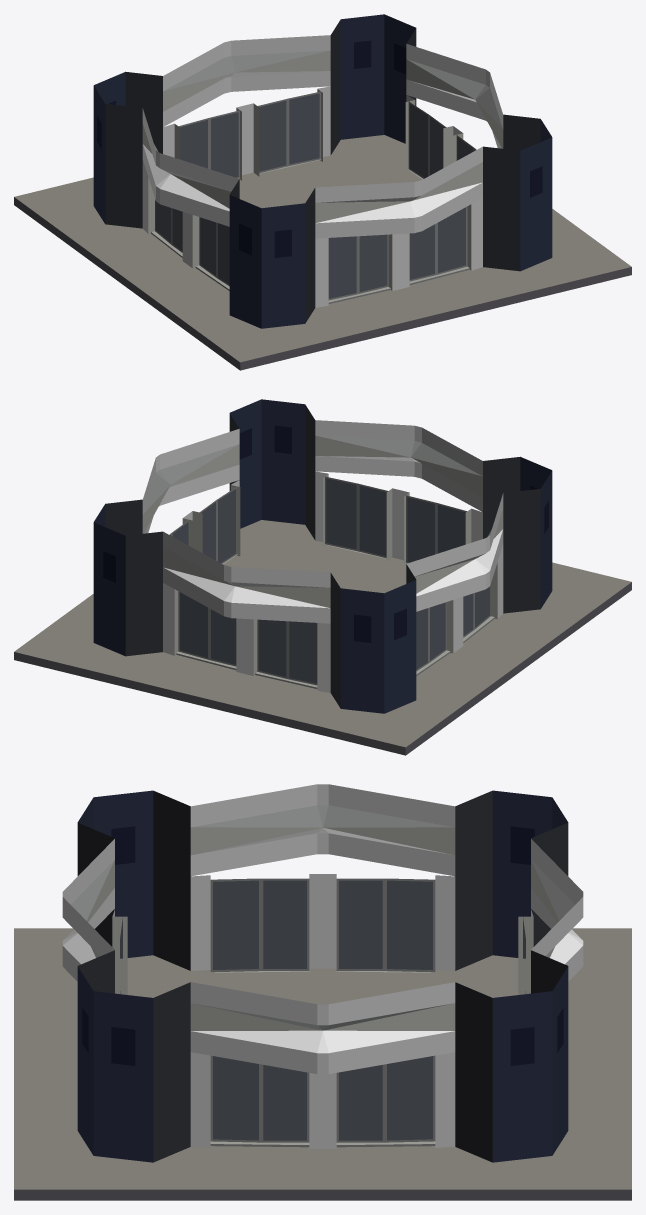
The model's file is TB_CITY_Skysc_L_Bottom_Gray.FBX.
3 views of the same model, one above another, from view 1: azimuth 30°, elevation 25°; view 2: azimuth 150°, elevation 25°; view 3: azimuth 270°, elevation 25° (orthographic). The views are drawn at different scales.
Parts seen in each view (by area): view 1: TB_CITY_Skysc_L_Bottom_Gray; view 2: TB_CITY_Skysc_L_Bottom_Gray; view 3: TB_CITY_Skysc_L_Bottom_Gray.
Part boxes in pixels (x1=…): TB_CITY_Skysc_L_Bottom_Gray: x1=14, y1=14, x2=631, y2=370; TB_CITY_Skysc_L_Bottom_Gray: x1=14, y1=399, x2=631, y2=755; TB_CITY_Skysc_L_Bottom_Gray: x1=14, y1=784, x2=631, y2=1200.
Bounding box in the file's own units: 40 × 12.56 × 40.
